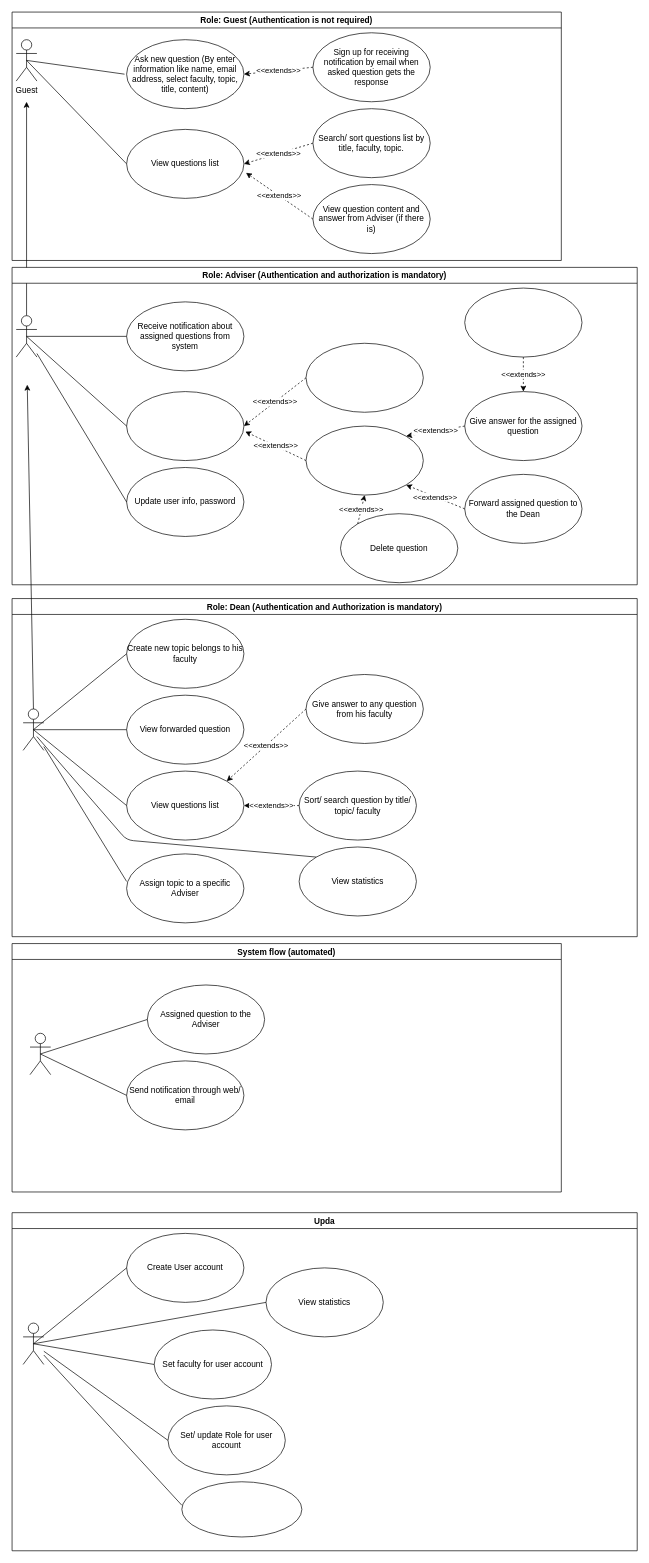
This 649x1563 diagram has some shape labels left out. The shapes that lost their labels are listed below. From the top down, each one's centre as x and y in pixels, then its label:
At [26,336]: "Adviser".
At [523,322]: "Inform the Dean about the answer for confirmation".
At [364,377]: "Sort assigned questions list".
At [185,426]: "View assigned questions list".
At [364,460]: "View question detail".
At [33,729]: "Dean".
At [40,1054]: "System".
At [33,1343]: "Admin".
At [241,1509]: "Manage faculty".
